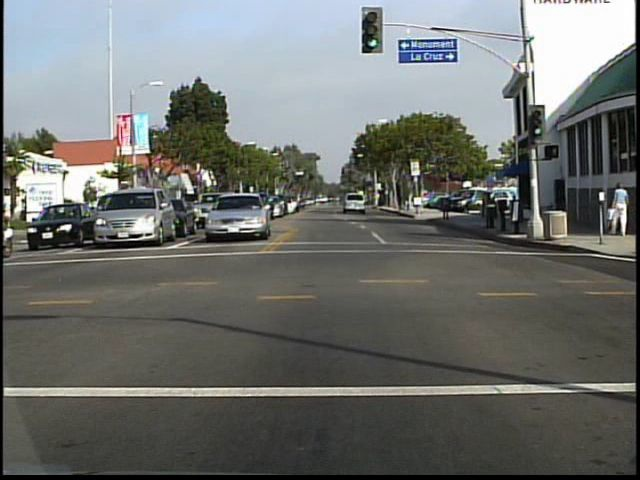person: (605, 176, 635, 242)
